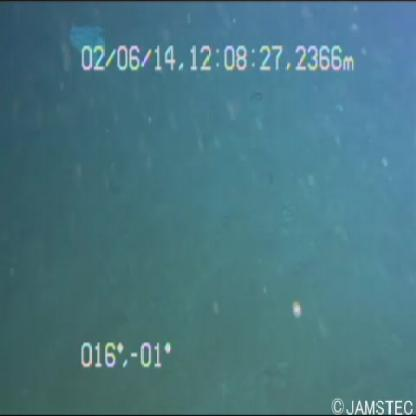Rác: (48, 19, 112, 68)
